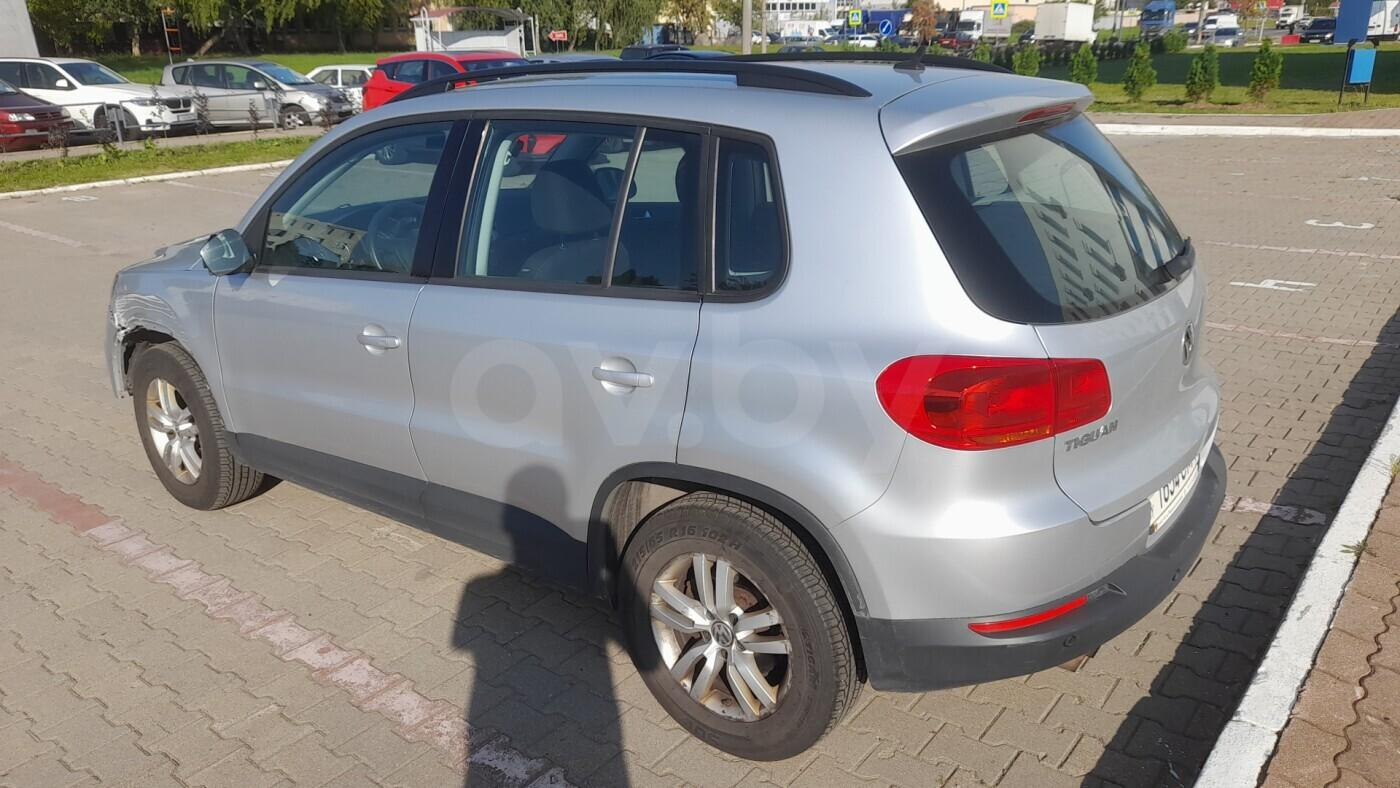Tiguan_2011-2018: (99, 57, 1230, 761)
